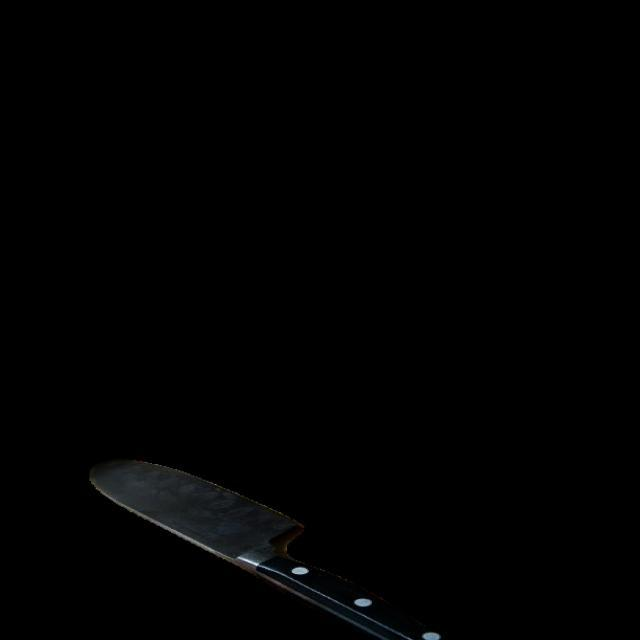knife: (83, 452, 437, 639)
